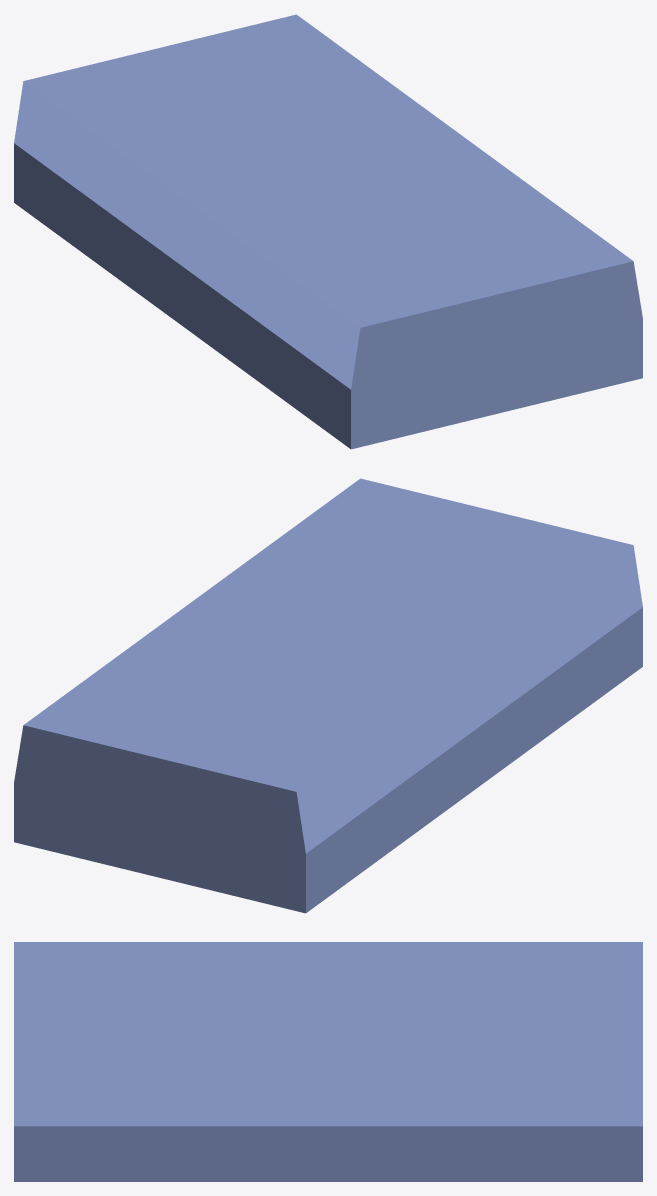
The model's file is tile-cliff-straight.glb.
3 views of the same model, one above another, from view 1: azimuth 30°, elevation 25°; view 2: azimuth 150°, elevation 25°; view 3: azimuth 270°, elevation 25° (orthographic). The views are drawn at different scales.
Parts seen in each view (by area): view 1: tiles-cliff_straight; view 2: tiles-cliff_straight; view 3: tiles-cliff_straight.
Part boxes in pixels (left/top/right/bottom): tiles-cliff_straight: left=14, top=14, right=642, bottom=449; tiles-cliff_straight: left=14, top=478, right=642, bottom=913; tiles-cliff_straight: left=14, top=942, right=642, bottom=1181.
Size of the model in its own units: 32 by 12.5 by 64.
